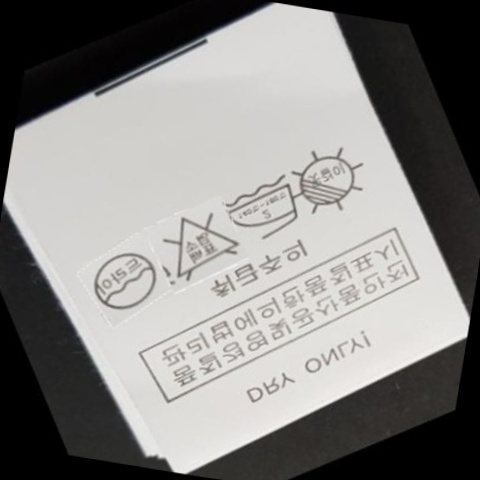dry_clean: (90, 245, 160, 318)
iron_medium: (227, 170, 303, 243)
line_dry_in_shade: (288, 141, 365, 221)
non_chlorine_bleach: (154, 199, 240, 287)
